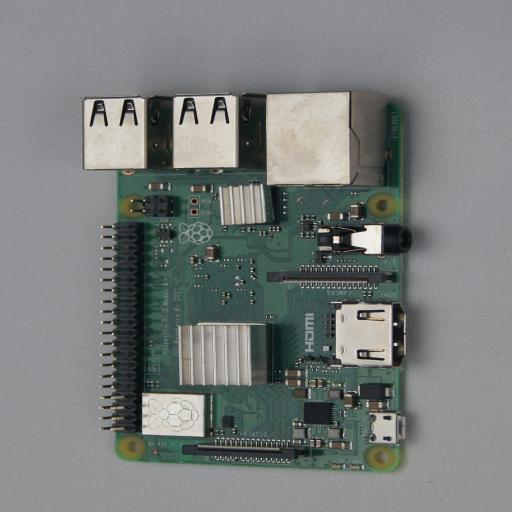Raspberry Pi 3 B-: (82, 86, 427, 471)
